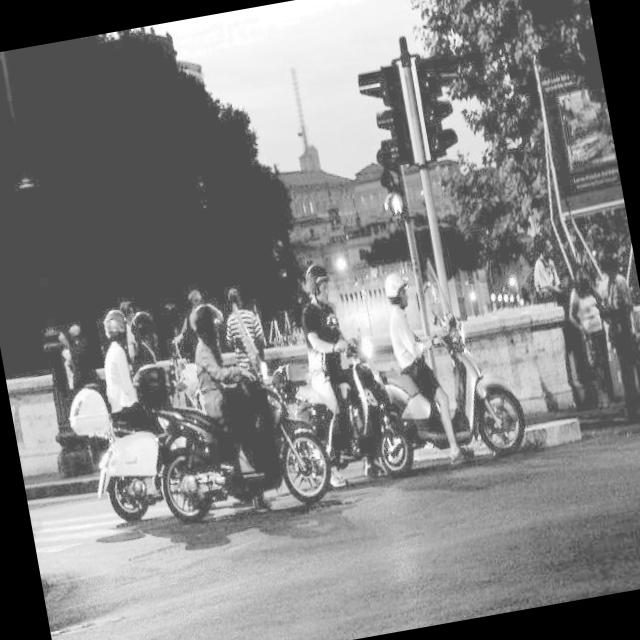Motorcycle: (347, 280, 532, 492), (150, 346, 344, 546), (57, 348, 218, 526), (268, 314, 418, 502)
